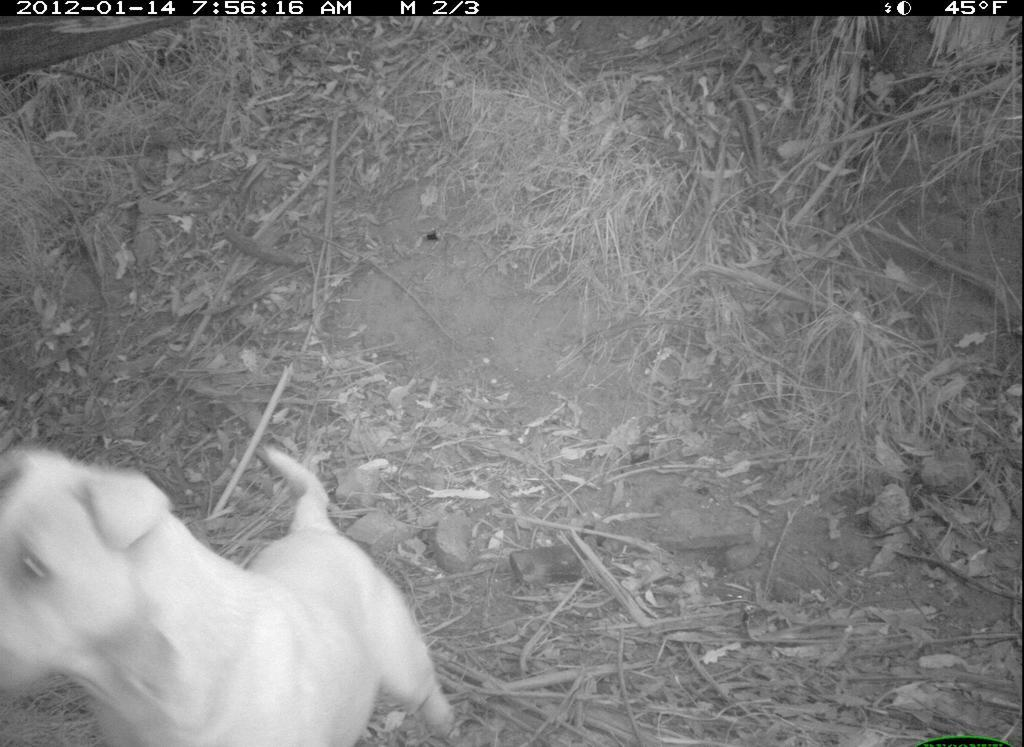dog: (6, 437, 464, 739)
